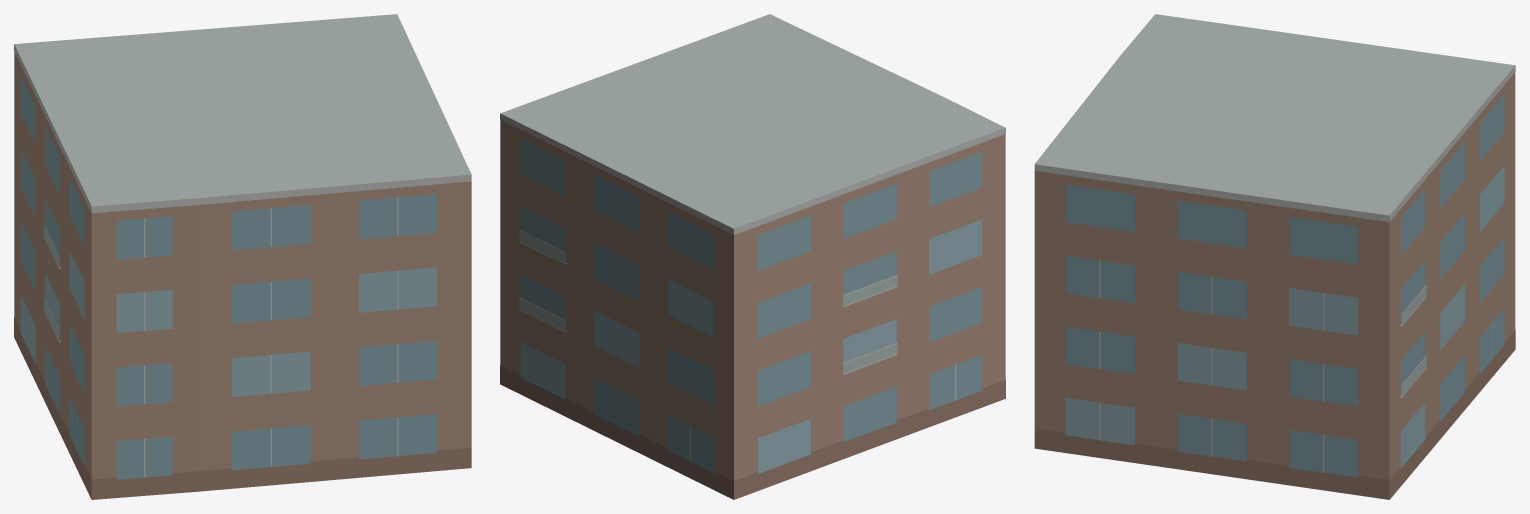
File: survey-upis-33023732.glb
3 views of the same model, side by side, from view 1: azimuth 30°, elevation 25°; view 2: azimuth 150°, elevation 25°; view 3: azimuth 270°, elevation 25° (orthographic). The views are drawn at different scales.
Visible parts, largest first — view 1: survey-upis-33023732.tmp; view 2: survey-upis-33023732.tmp; view 3: survey-upis-33023732.tmp.
Part boxes in pixels (box(x1,y1,x2,y2)): survey-upis-33023732.tmp: box(14, 14, 471, 499); survey-upis-33023732.tmp: box(500, 14, 1005, 499); survey-upis-33023732.tmp: box(1034, 14, 1515, 499).
Size of the model in its own units: 16.13 by 10.6 by 16.26.
